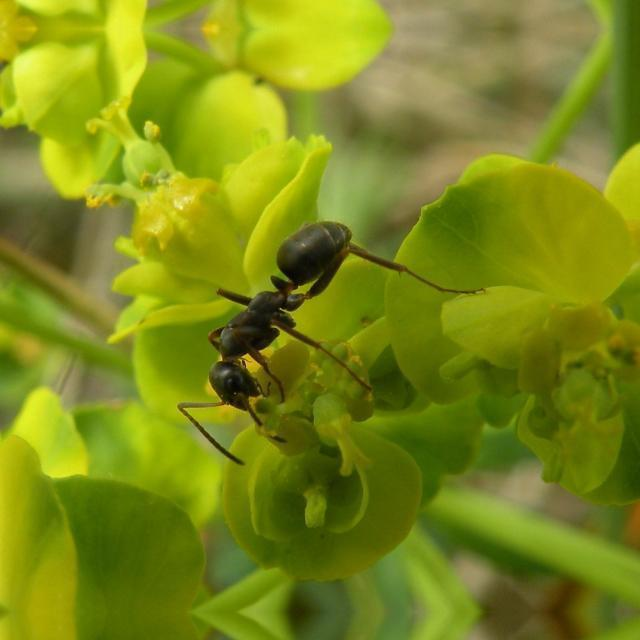Formica: (157, 210, 397, 440)
